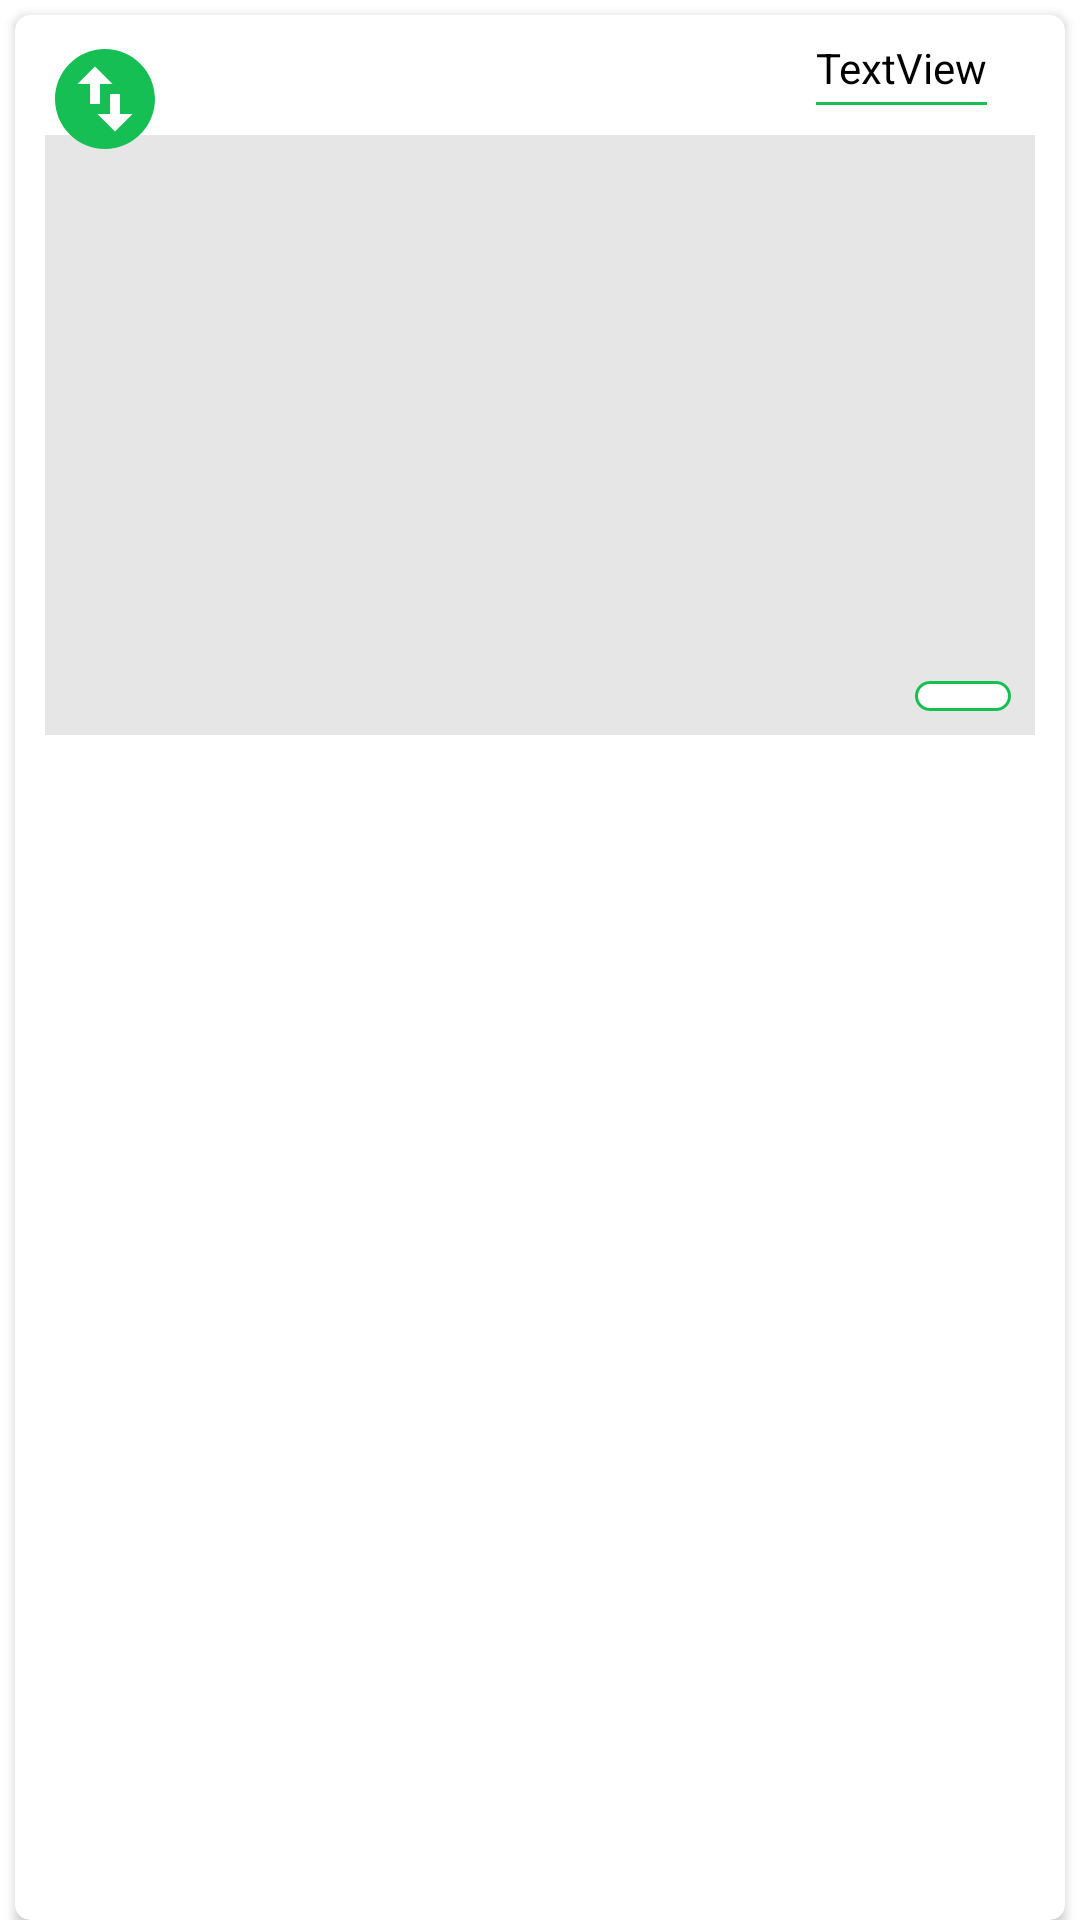

Locate icon controls on the screen. Image size 1080 × 1920, boxes as (x1, y1, x2, y2).
drag: (45, 49, 171, 159)
